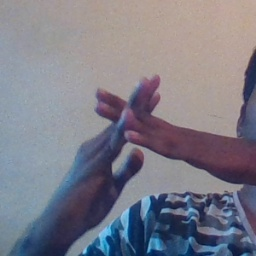W: (72, 62, 206, 193)
